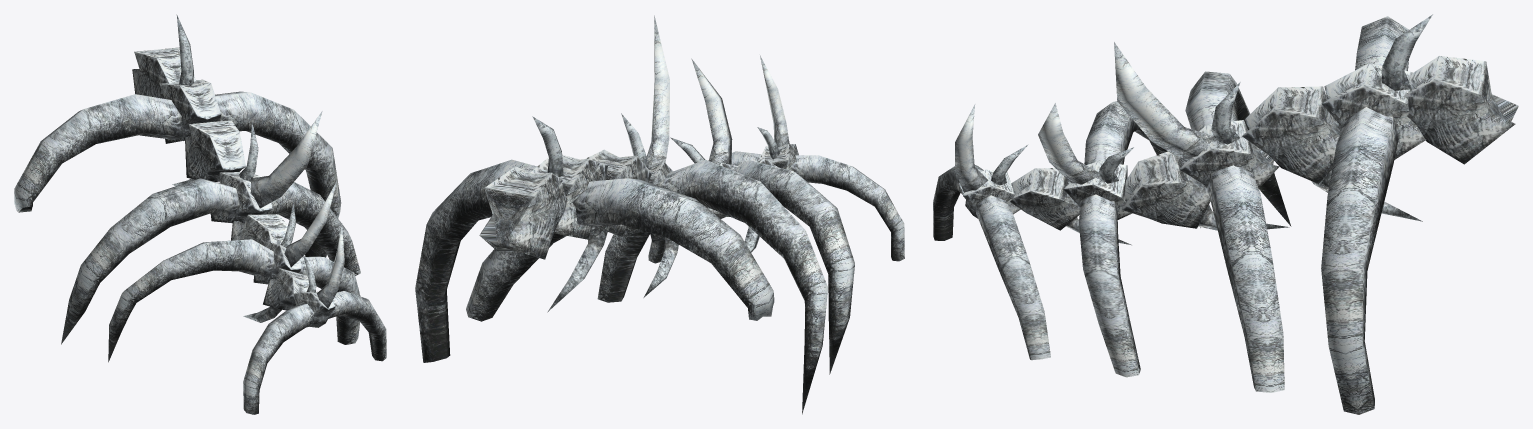
File: ice_dragonbone_03.fbx
3 views of the same model, side by side, from view 1: azimuth 30°, elevation 25°; view 2: azimuth 150°, elevation 25°; view 3: azimuth 270°, elevation 25° (orthographic). The views are drawn at different scales.
Parts seen in each view (by area): view 1: ice_dragonbone_03; view 2: ice_dragonbone_03; view 3: ice_dragonbone_03.
Part boxes in pixels (x1,y1,x2,y2): ice_dragonbone_03: (14, 14, 386, 414); ice_dragonbone_03: (415, 15, 904, 414); ice_dragonbone_03: (933, 14, 1518, 414).
Size of the model in its own units: 12.11 by 9.5 by 15.41.
